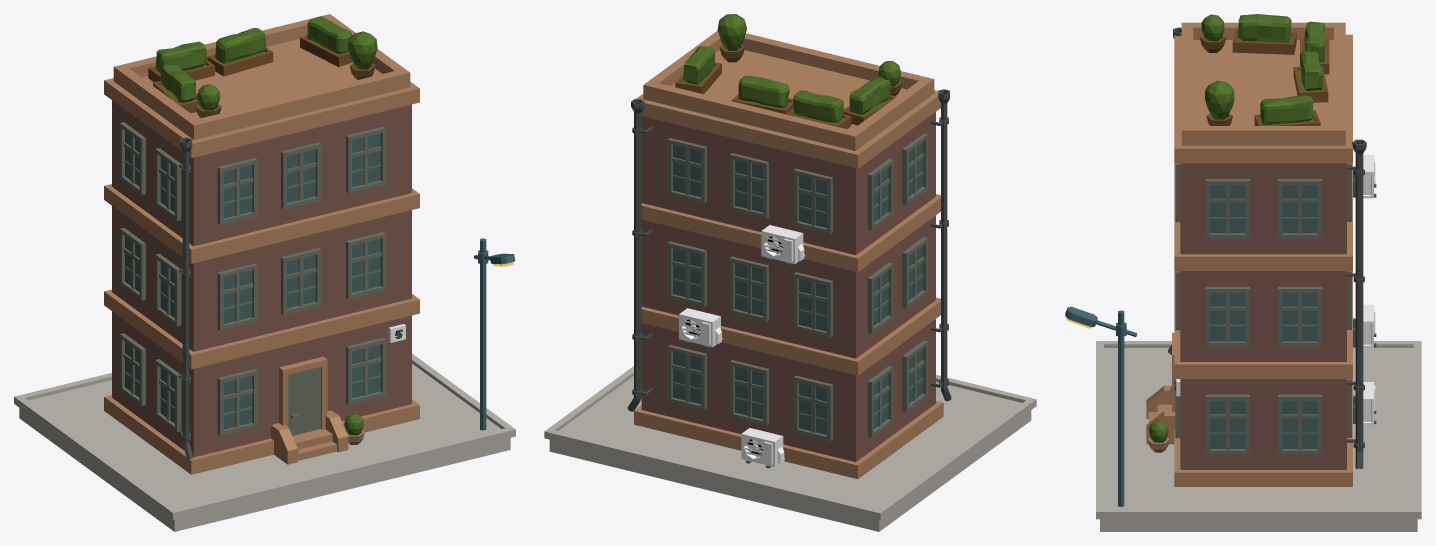
File: house.fbx
The picture shows the model from 3 angles, left to right: view 1: azimuth 30°, elevation 25°; view 2: azimuth 150°, elevation 25°; view 3: azimuth 270°, elevation 25°; orthographic projection. The views are drawn at different scales.
Visible parts, largest first — view 1: houseBldg; view 2: houseBldg; view 3: houseBldg.
Part boxes in pixels (box(x1,y1,x2,y2)): houseBldg: box(14, 14, 515, 531); houseBldg: box(544, 14, 1036, 531); houseBldg: box(1065, 14, 1421, 531).
Size of the model in its own units: 10.2 by 11.26 by 8.97.
